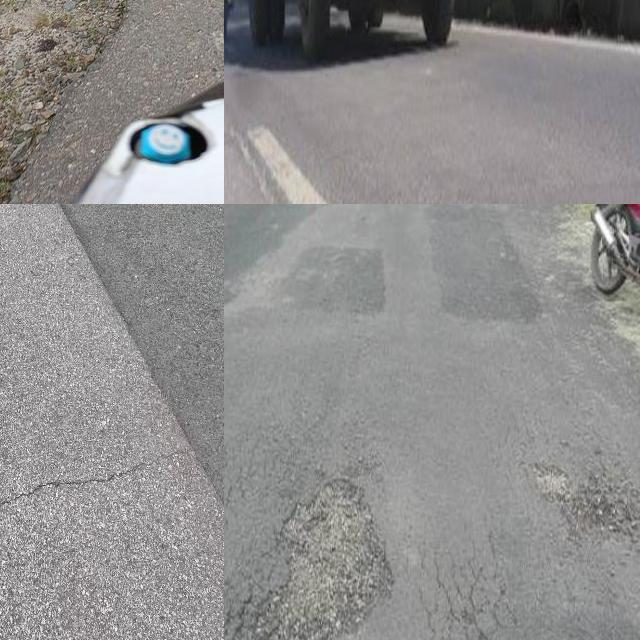Melintang: (0, 440, 193, 515)
Pinggir: (0, 0, 154, 204)
Sambungan: (59, 204, 224, 507), (423, 209, 541, 317), (276, 238, 395, 312)
